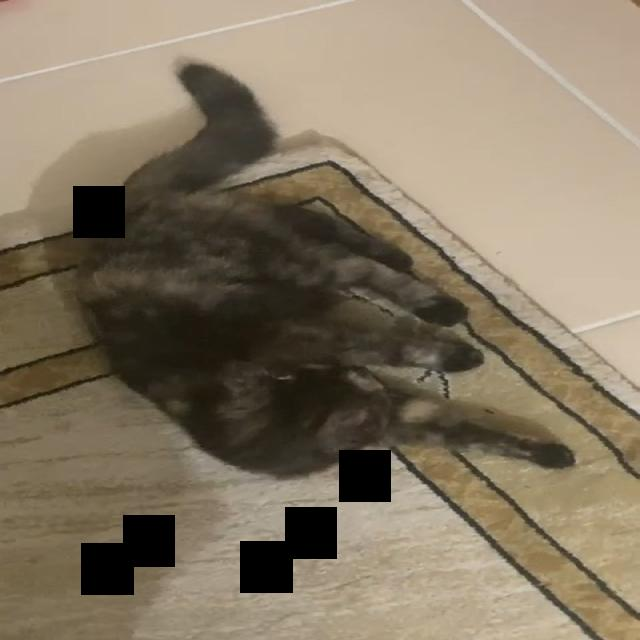authorized: (72, 55, 576, 479)
